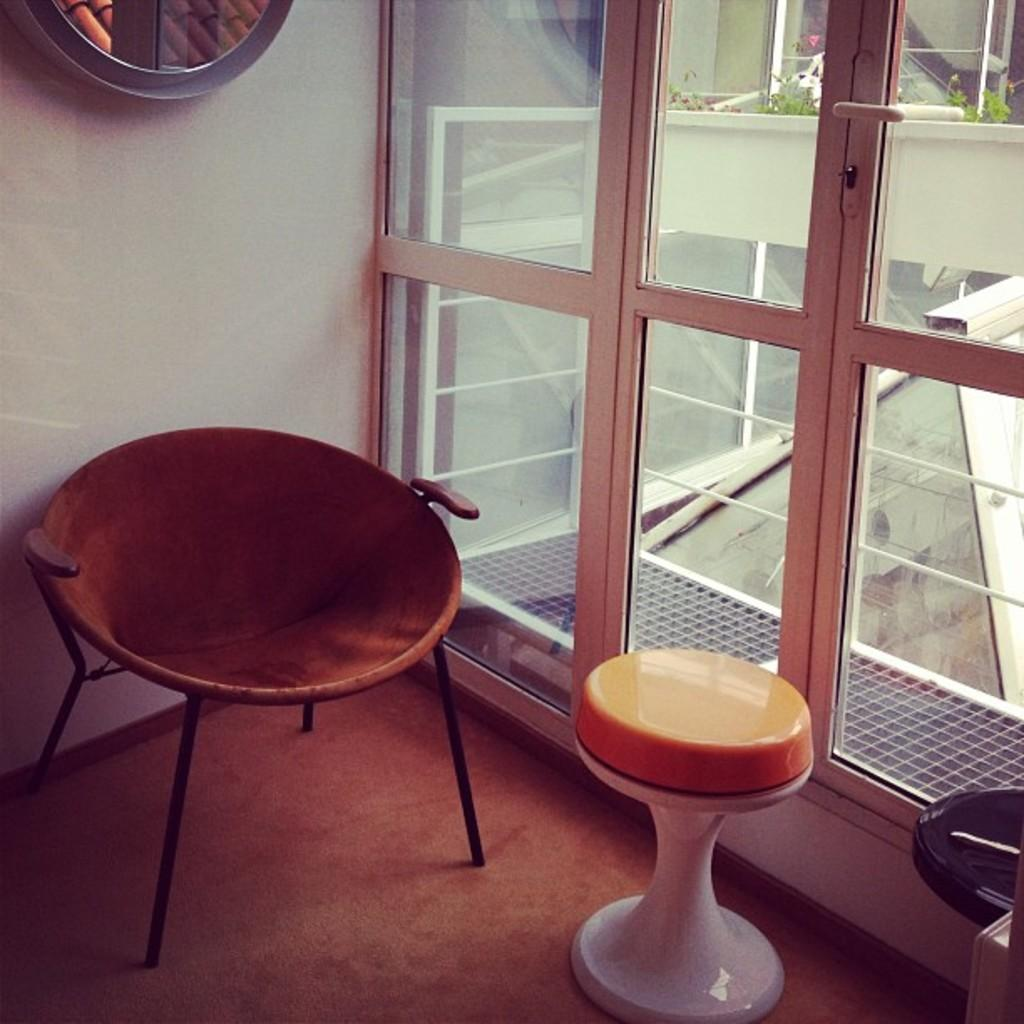Chair: (5, 392, 507, 982)
